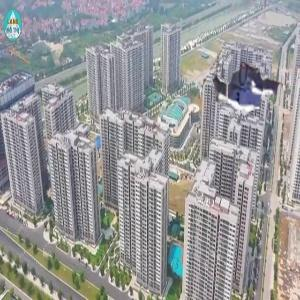drone: (197, 46, 291, 140)
